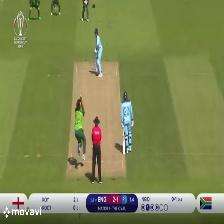batsman: (85, 26, 112, 81)
